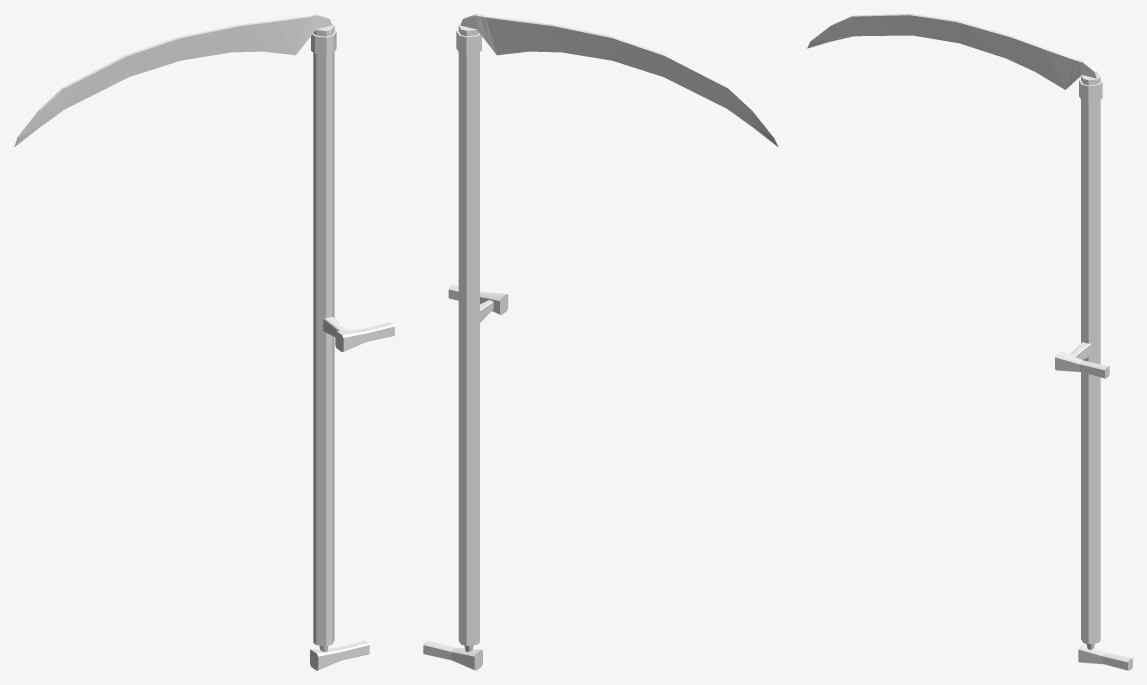
Rendered from Tool_Scythe_02.glb.
The picture shows the model from 3 angles, left to right: view 1: azimuth 30°, elevation 25°; view 2: azimuth 150°, elevation 25°; view 3: azimuth 330°, elevation 25°; orthographic projection. The views are drawn at different scales.
Visible parts, largest first — view 1: Tool_Scythe_02; view 2: Tool_Scythe_02; view 3: Tool_Scythe_02.
Part boxes in pixels (left/top/right/bottom): Tool_Scythe_02: left=14, top=14, right=394, bottom=670; Tool_Scythe_02: left=423, top=14, right=778, bottom=670; Tool_Scythe_02: left=807, top=14, right=1132, bottom=670.
Size of the model in its own units: 0.9161 by 1.65 by 0.1602.
1 material, 1 textured.
